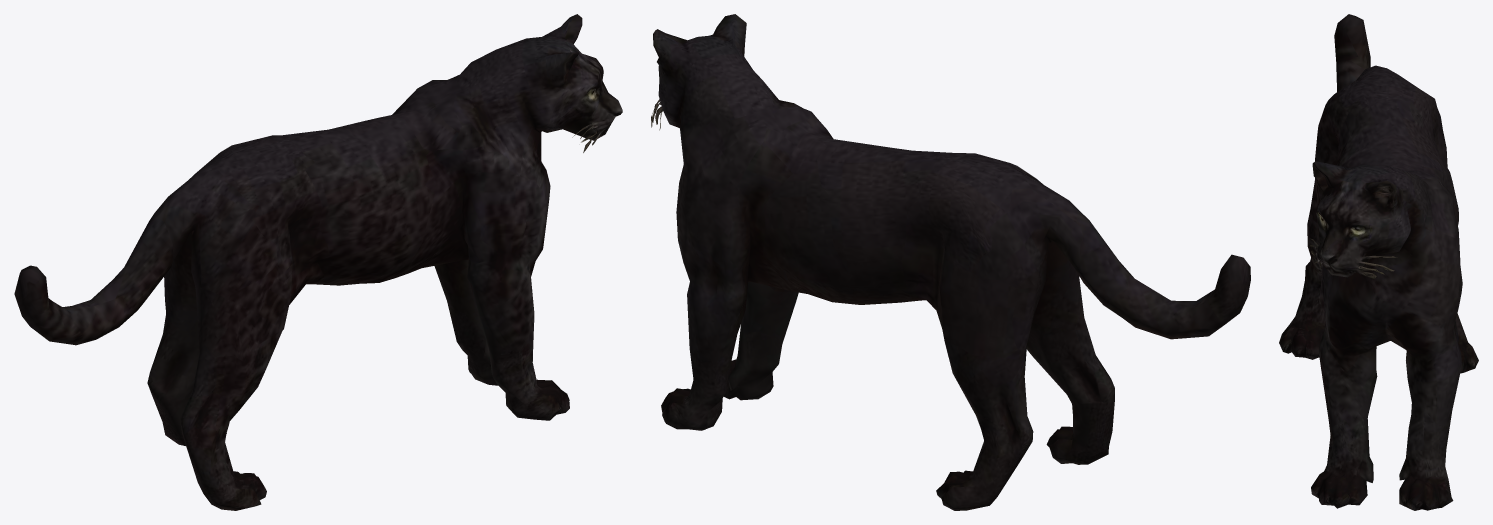
The model's file is VELVETPAW-lo.glb.
3 views of the same model, side by side, from view 1: azimuth 30°, elevation 25°; view 2: azimuth 150°, elevation 25°; view 3: azimuth 270°, elevation 25° (orthographic). The views are drawn at different scales.
Visible parts, largest first — view 1: tripo_node_418e056b-18c9-4086-b07d-9d9341229580; view 2: tripo_node_418e056b-18c9-4086-b07d-9d9341229580; view 3: tripo_node_418e056b-18c9-4086-b07d-9d9341229580.
Part boxes in pixels (x1,y1,x2,y2): tripo_node_418e056b-18c9-4086-b07d-9d9341229580: [14, 14, 622, 510]; tripo_node_418e056b-18c9-4086-b07d-9d9341229580: [651, 14, 1250, 510]; tripo_node_418e056b-18c9-4086-b07d-9d9341229580: [1279, 14, 1478, 510].
Bounding box in the file's own units: 1.69 × 0.9995 × 0.521.
Materials: 1 (1 with a texture image).
